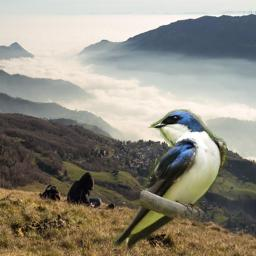Swallow: (112, 109, 228, 251)
